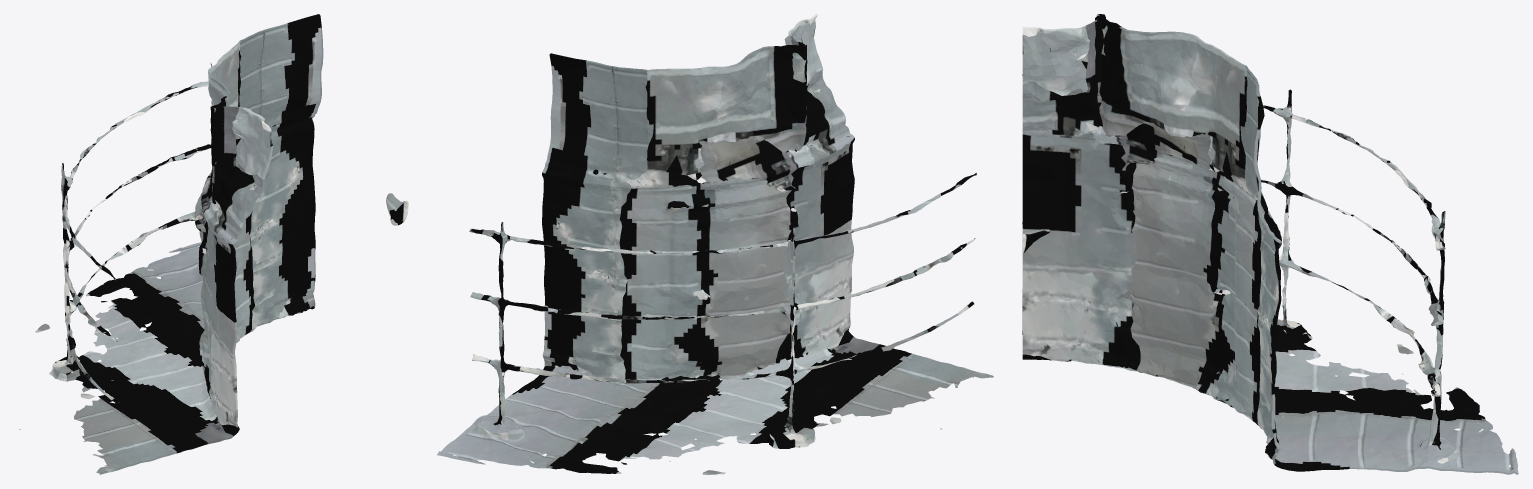
3 views of the same model, side by side, from view 1: azimuth 30°, elevation 25°; view 2: azimuth 150°, elevation 25°; view 3: azimuth 270°, elevation 25° (orthographic). The views are drawn at different scales.
Visible parts, largest first — view 1: node_36; view 2: node_36; view 3: node_36.
Boxes of the visible parts, bbox=[...] form: node_36: bbox=[19, 14, 408, 474]; node_36: bbox=[437, 14, 993, 474]; node_36: bbox=[1022, 14, 1518, 474].
Size of the model in its own units: 2.18 by 1.89 by 2.35.
Materials: 1 (1 with a texture image).
